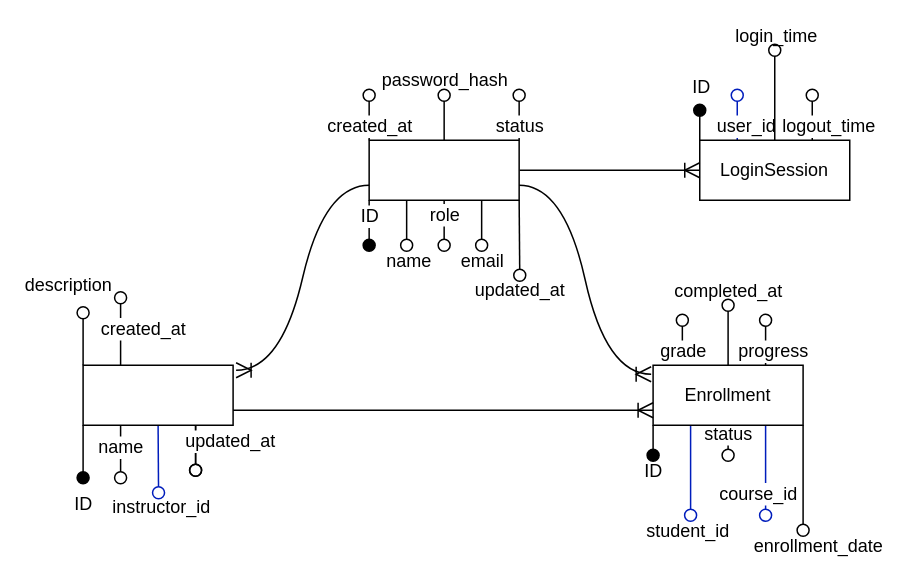
Some shapes in this 909 by 582 pixel diagram are drawn without their labels. Here are the shapes that lost their labels. From the top down, the centre of each, then its label:
[443,169]: User
[157,394]: Course
